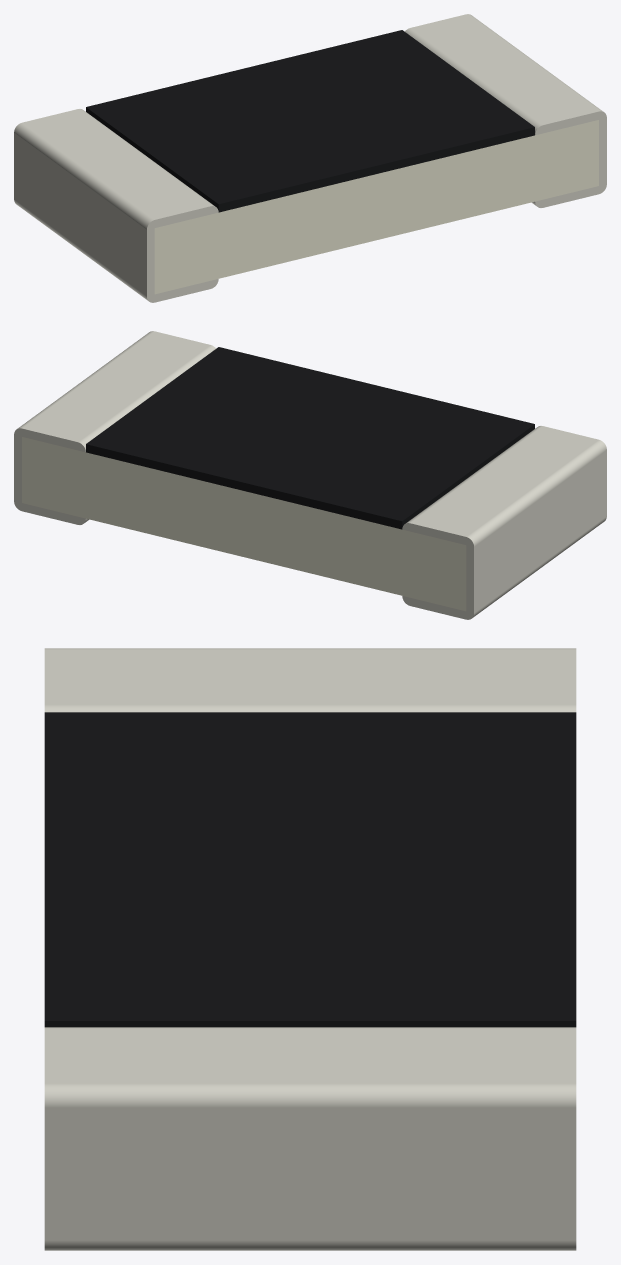
The model's file is Fuse_1206_3216Metric.glb.
3 views of the same model, one above another, from view 1: azimuth 30°, elevation 25°; view 2: azimuth 150°, elevation 25°; view 3: azimuth 270°, elevation 25° (orthographic). The views are drawn at different scales.
Visible parts, largest first — view 1: =>[0:1:1:3]; view 2: =>[0:1:1:3]; view 3: =>[0:1:1:3].
Boxes of the visible parts, box(x1,y1,x2,y2) form: =>[0:1:1:3]: box(14, 14, 606, 302); =>[0:1:1:3]: box(14, 331, 606, 619); =>[0:1:1:3]: box(44, 648, 576, 1250).
Bounding box in the file's own units: 0.0032 × 0.00055 × 0.0016.
